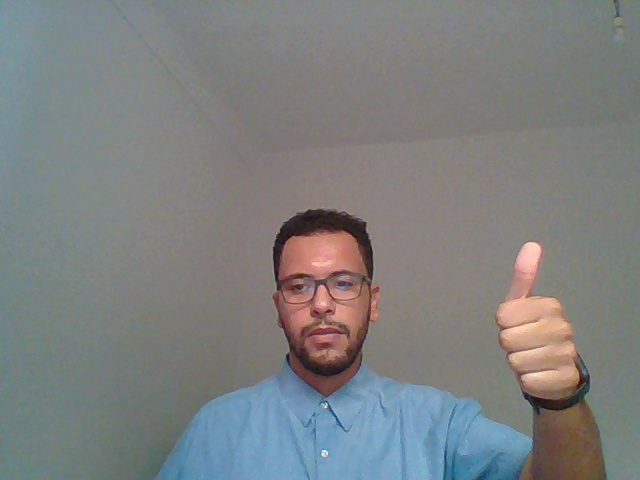ok: (465, 208, 594, 448)
